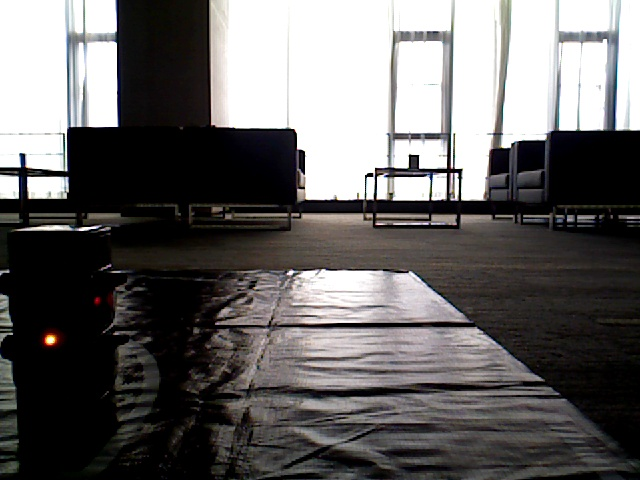yellow: (13, 235, 97, 419)
